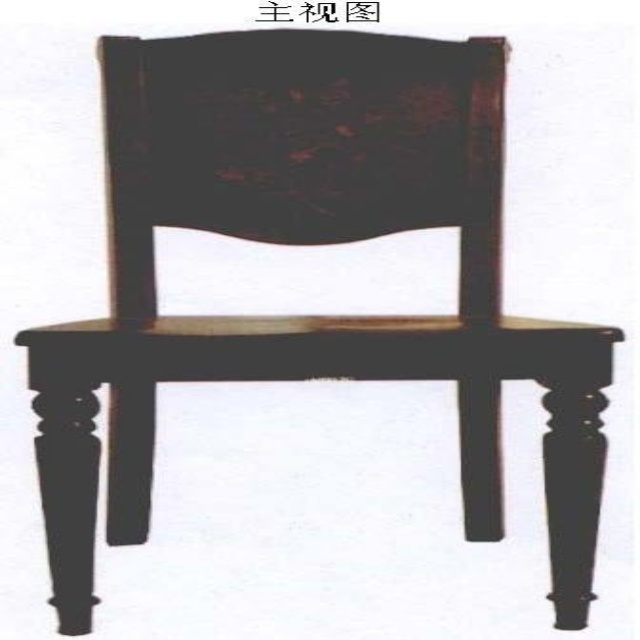obstacle: (17, 30, 621, 634)
